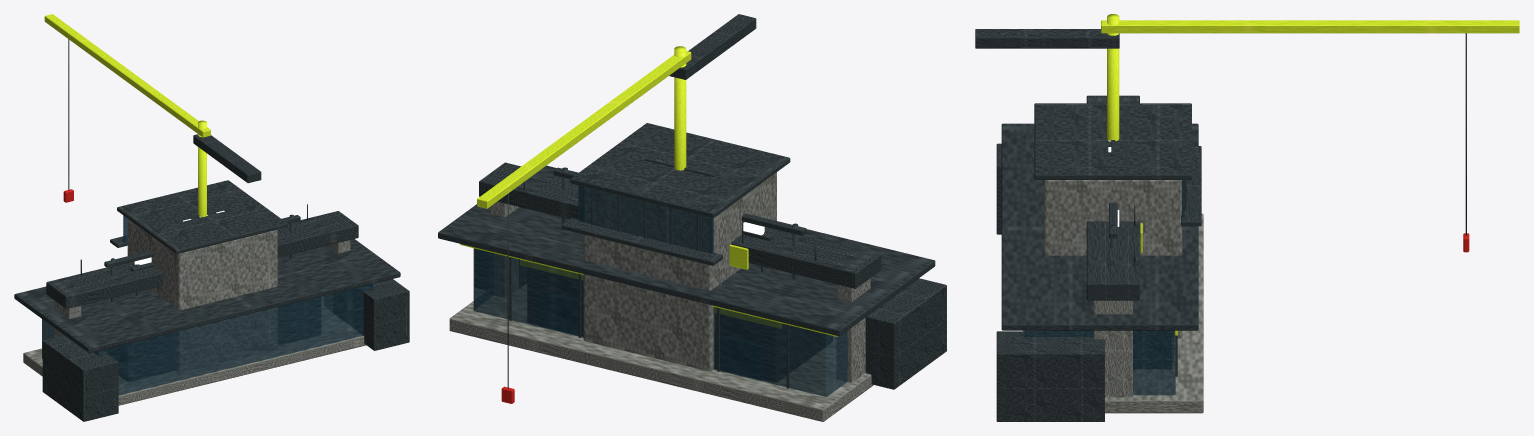
The model's file is circuit-props.glb.
The picture shows the model from 3 angles, left to right: view 1: azimuth 30°, elevation 25°; view 2: azimuth 150°, elevation 25°; view 3: azimuth 270°, elevation 25°; orthographic projection. The views are drawn at different scales.
Parts seen in each view (by area): view 1: HOSPITALITY_ROOF, HOSPITALITY_SUITE, CONTROL_TOWER_CORE, CONTROL_TOWER_CROWN, HOSPITALITY_DECK, FOOTBRIDGE_SPAN, FOOTBRIDGE_STAIR, FOOTBRIDGE_STAIR.001, PIT_BACK, CRANE_JIB, CRANE_COUNTER_JIB, CRANE_MAST (+1 smaller); view 2: CONTROL_TOWER_CORE, HOSPITALITY_ROOF, HOSPITALITY_SUITE, HOSPITALITY_DECK, CONTROL_TOWER_CROWN, FOOTBRIDGE_SPAN, FOOTBRIDGE_STAIR, PIT_BACK, CONTROL_TOWER_GLAZING, CRANE_JIB, CONTROL_TOWER_BALCONY, FOOTBRIDGE_PIER (+7 smaller); view 3: HOSPITALITY_ROOF, CONTROL_TOWER_CROWN, FOOTBRIDGE_STAIR.001, CONTROL_TOWER_CORE, CRANE_JIB, HOSPITALITY_DECK, FOOTBRIDGE_SPAN, HOSPITALITY_SUITE, CRANE_COUNTER_JIB, FOOTBRIDGE_PIER.001, PIT_BACK, CRANE_MAST (+2 smaller).
Boxes of the visible parts, x1,y1,x2,y2 form: HOSPITALITY_ROOF: (14, 239, 400, 352); HOSPITALITY_SUITE: (42, 284, 372, 395); CONTROL_TOWER_CORE: (127, 219, 277, 372); CONTROL_TOWER_CROWN: (117, 180, 287, 254); HOSPITALITY_DECK: (23, 296, 365, 405); FOOTBRIDGE_SPAN: (46, 211, 358, 308); FOOTBRIDGE_STAIR: (42, 335, 118, 421); FOOTBRIDGE_STAIR.001: (333, 279, 409, 350); PIT_BACK: (103, 297, 320, 381); CRANE_JIB: (44, 14, 210, 137); CRANE_COUNTER_JIB: (193, 134, 261, 183); CRANE_MAST: (198, 120, 206, 216); CONTROL_TOWER_CORE: (583, 172, 776, 371); HOSPITALITY_ROOF: (438, 165, 935, 335); HOSPITALITY_SUITE: (473, 248, 847, 396); HOSPITALITY_DECK: (449, 284, 873, 421); CONTROL_TOWER_CROWN: (570, 123, 790, 218); FOOTBRIDGE_SPAN: (479, 162, 881, 288); FOOTBRIDGE_STAIR: (865, 278, 946, 389); PIT_BACK: (527, 267, 832, 382); CONTROL_TOWER_GLAZING: (578, 185, 713, 253); CRANE_JIB: (477, 51, 691, 208); CONTROL_TOWER_BALCONY: (561, 218, 723, 265); FOOTBRIDGE_PIER: (836, 278, 870, 382); HOSPITALITY_ROOF: (1001, 123, 1198, 330); CONTROL_TOWER_CROWN: (1034, 103, 1191, 179); FOOTBRIDGE_STAIR.001: (996, 331, 1104, 421); CONTROL_TOWER_CORE: (1044, 180, 1182, 338); CRANE_JIB: (1101, 20, 1519, 33); HOSPITALITY_DECK: (1023, 213, 1203, 413); FOOTBRIDGE_SPAN: (1086, 95, 1139, 300); HOSPITALITY_SUITE: (1024, 330, 1175, 395); CRANE_COUNTER_JIB: (975, 29, 1119, 48); FOOTBRIDGE_PIER.001: (1093, 300, 1132, 397); PIT_BACK: (1133, 331, 1171, 368); CRANE_MAST: (1107, 14, 1119, 140).
Size of the model in its own units: 30.3 by 20.6 by 33.15.
10 materials, 10 textured.
